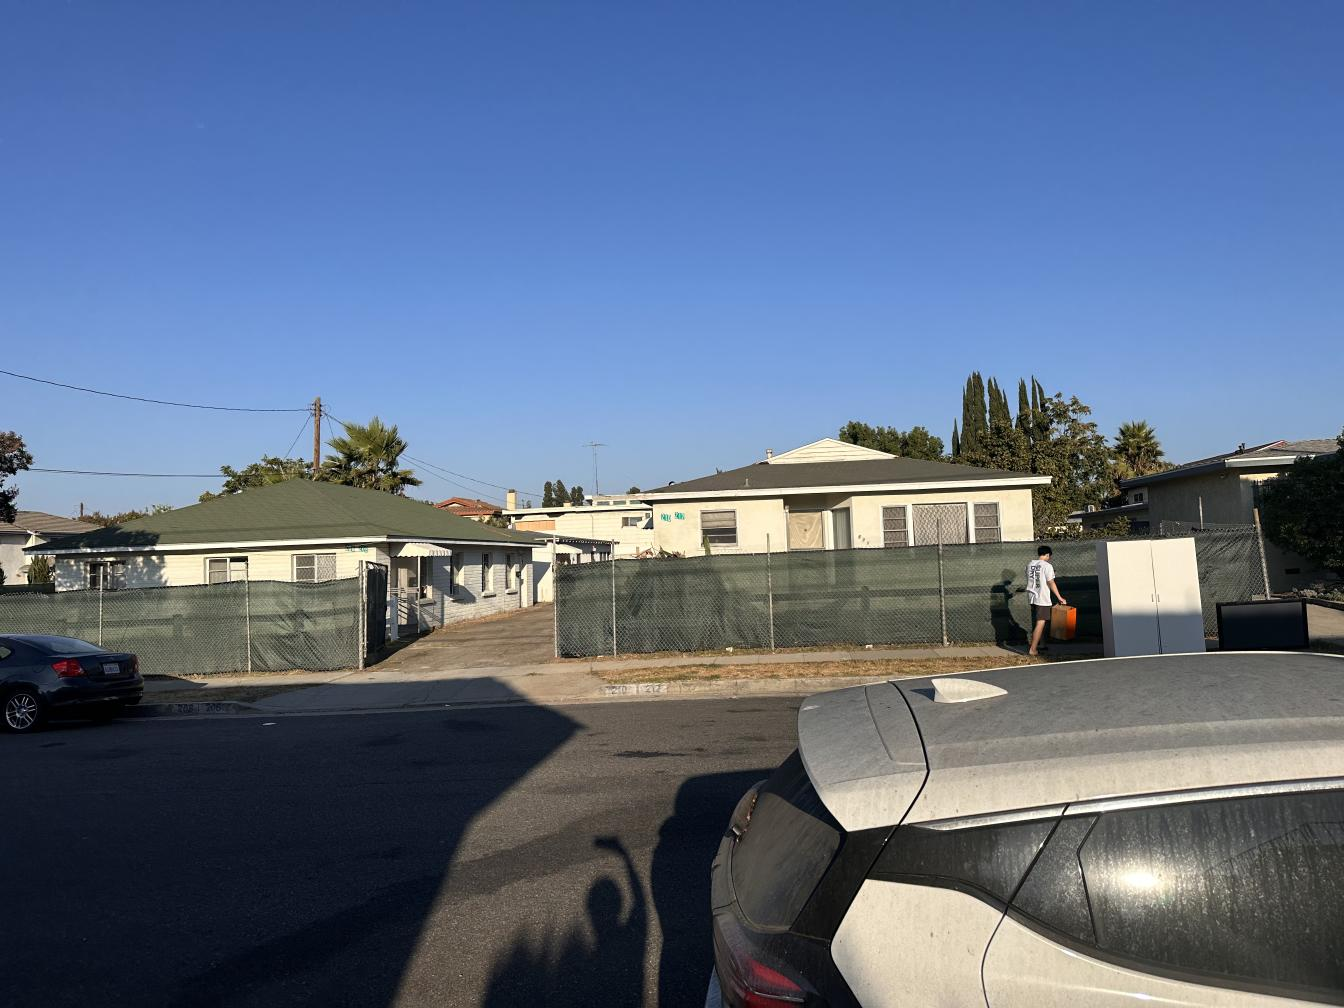curbs-laRr: (612, 677, 794, 699), (147, 701, 243, 717)
